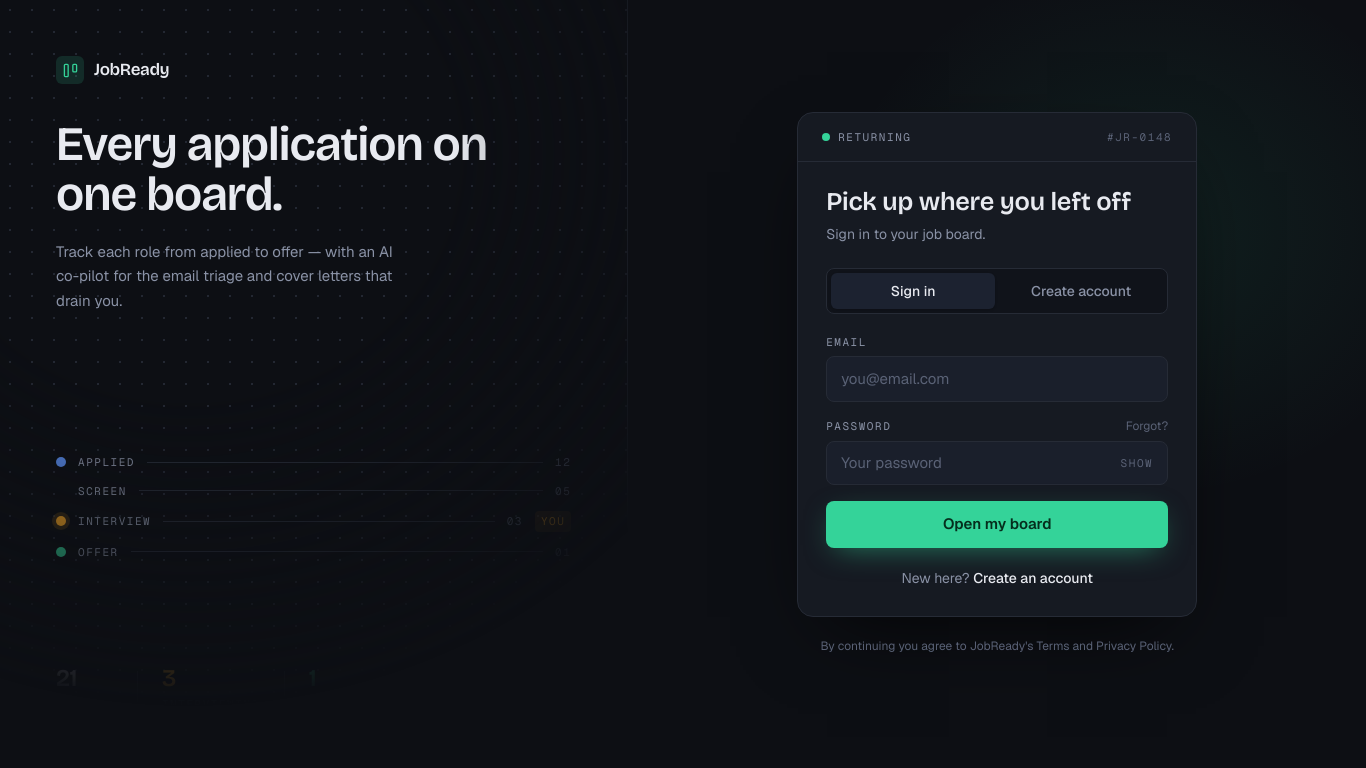
it: AuthPage › switches to the create-account lane
Click the button "Create account".
click(1081, 291)  # box [999,273,1163,309]
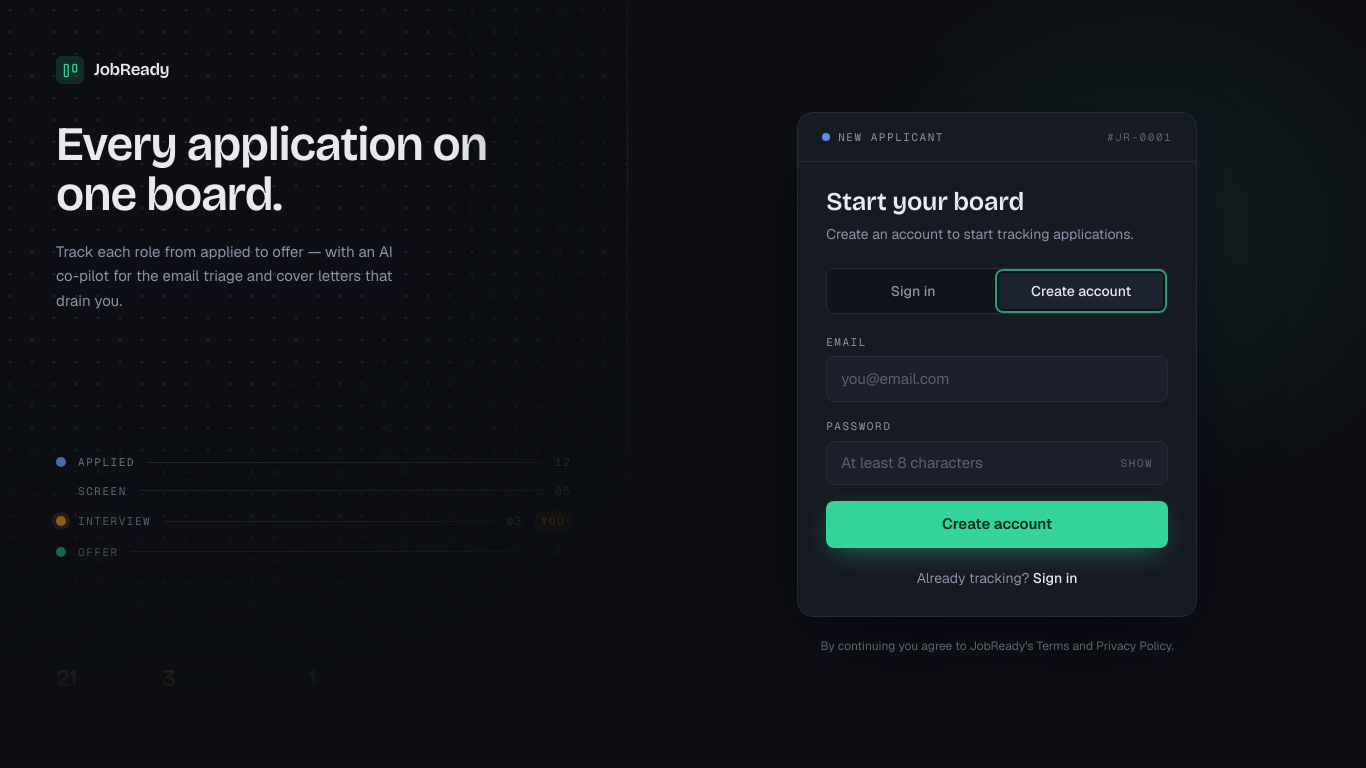
Expected: the heading "Start your board" is shown, [826,186,1024,217]
